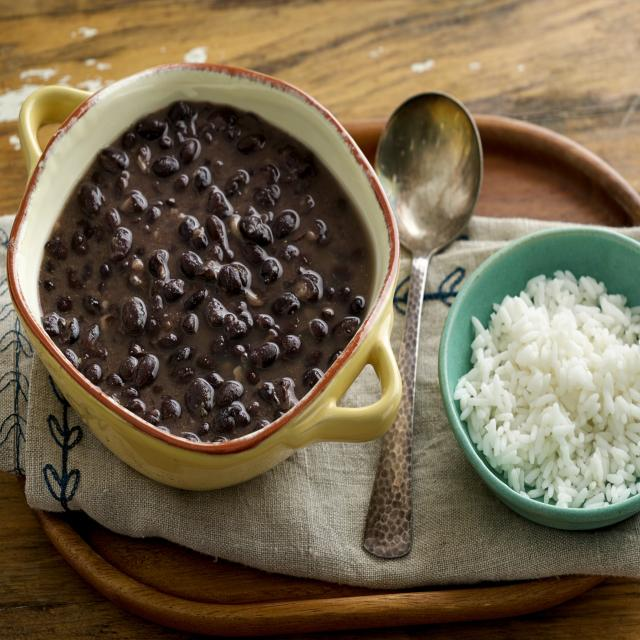arroz: (448, 260, 638, 526)
frijoles: (29, 75, 384, 448)
